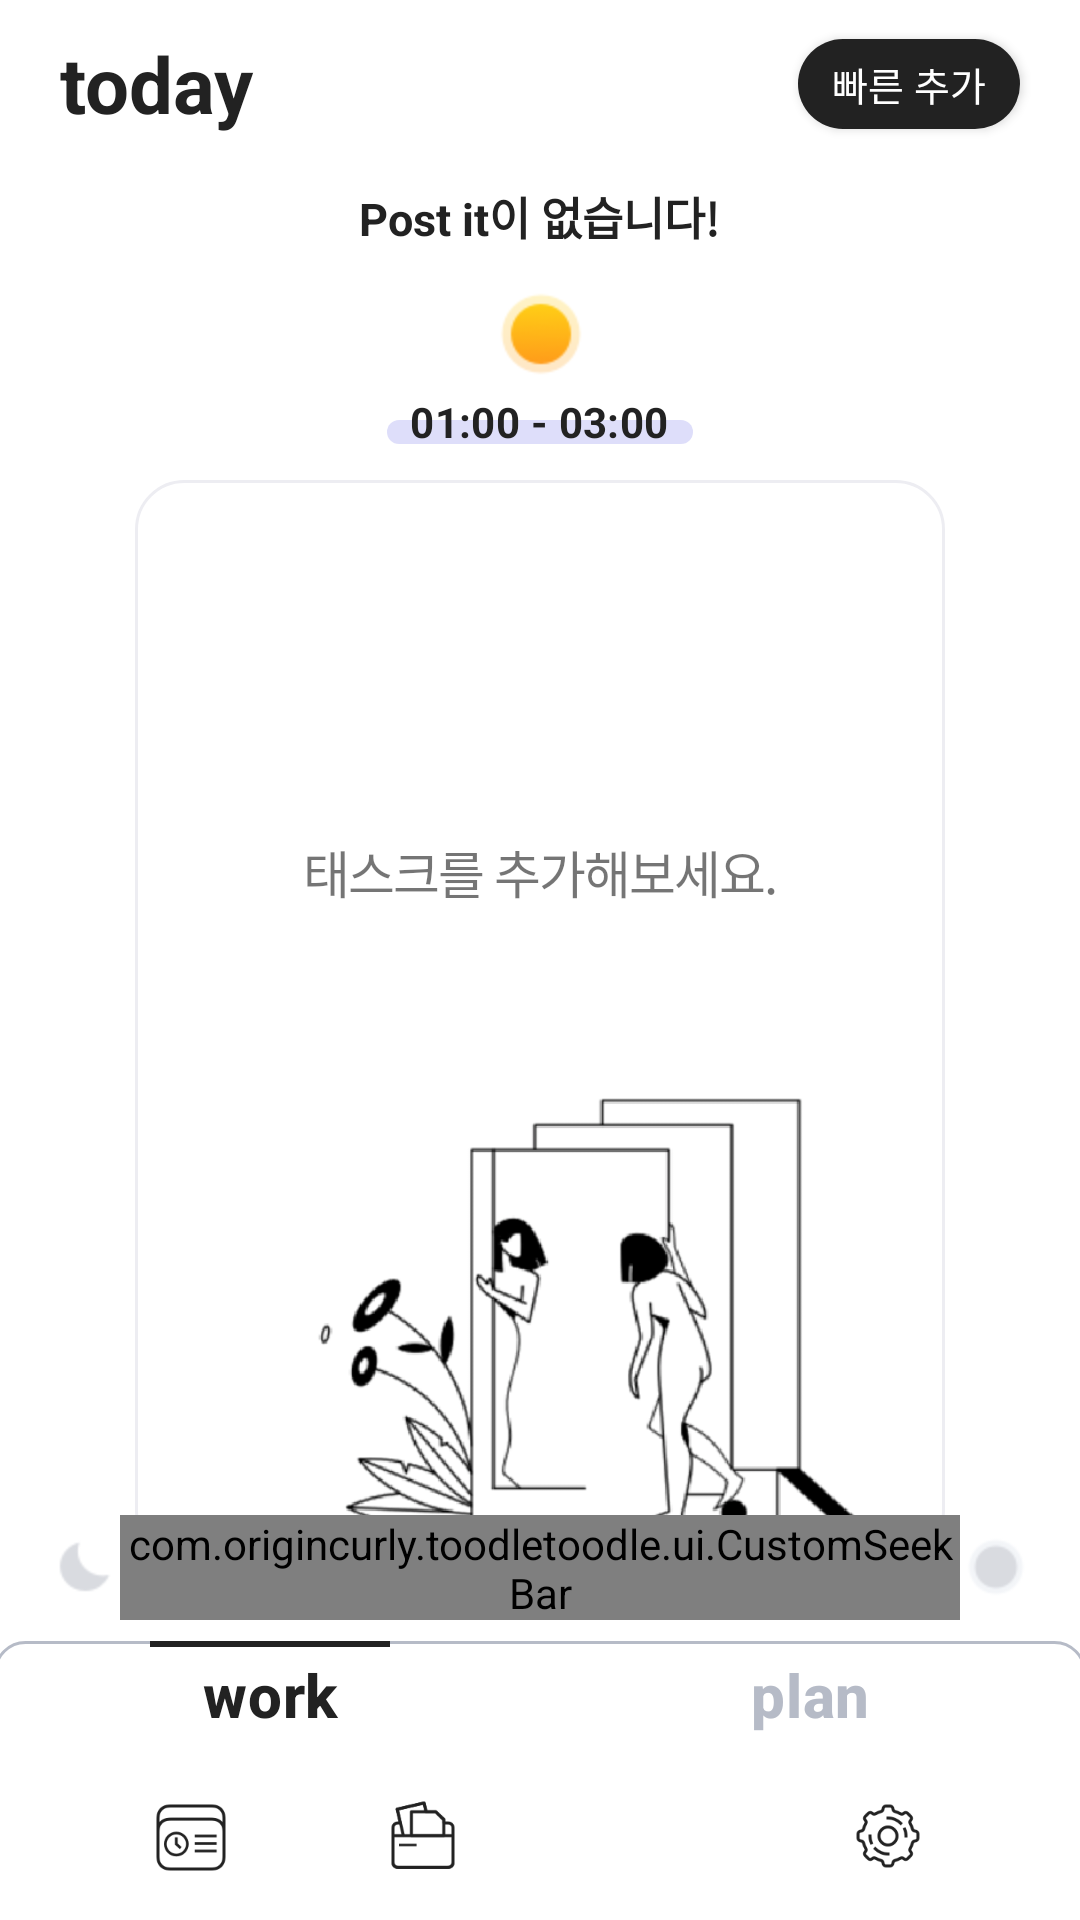

Screen size 1080px x 1920px. Icon name, then its center in pixels as point (x, y):
moon: point (84, 1567)
sun: point (541, 334)
